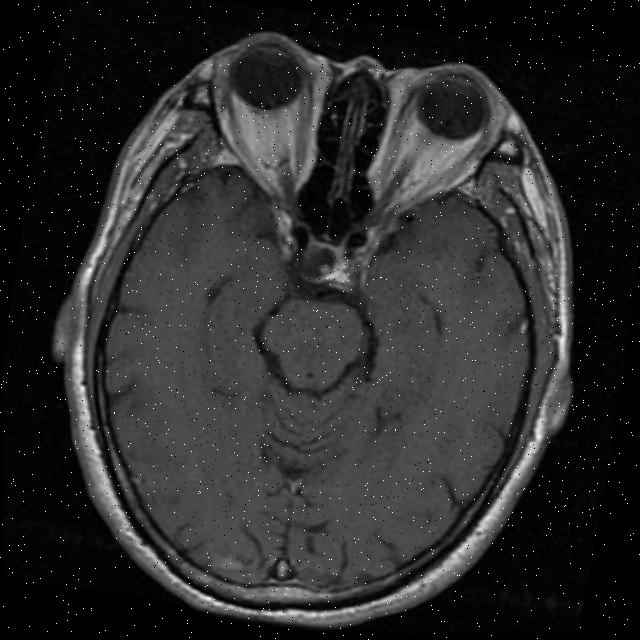Pituitary: (294, 239, 347, 288)
